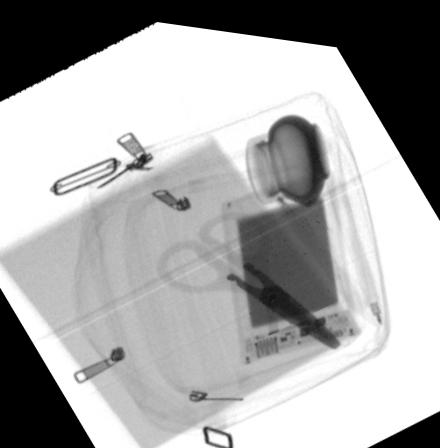Powerbank: (219, 161, 365, 362)
Scissors: (152, 204, 344, 341)
